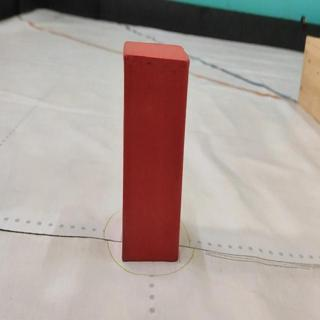redbox: (121, 42, 190, 260)
